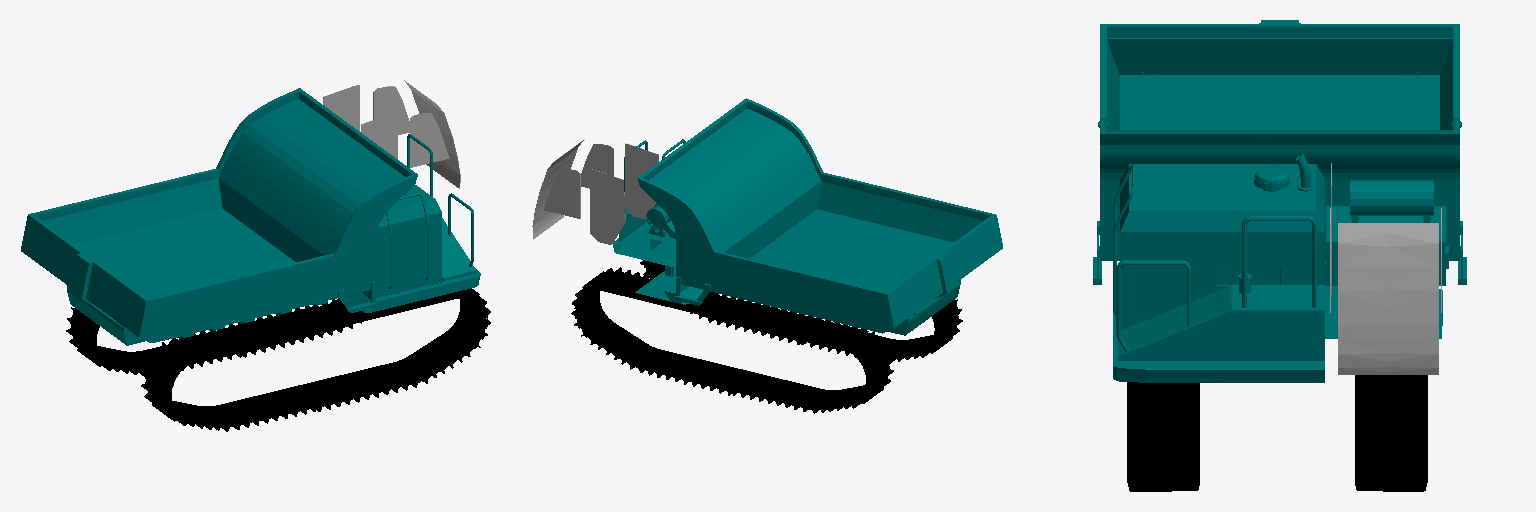
URDF robot description (ic120):
<?xml version="1.0" ?>
<!-- =================================================================================== -->
<!-- |    This document was autogenerated by xacro from ic120_gazebo.xacro             | -->
<!-- |    EDITING THIS FILE BY HAND IS NOT RECOMMENDED                                 | -->
<!-- =================================================================================== -->
<robot name="ic120">
  <!-- <xacro:property name="model_offset_x" value="-1.5" />
  <xacro:property name="model_offset_y" value="-3.1" /> -->
  <!-- <xacro:property name="model_offset_x" value="-1.5" />
  <xacro:property name="model_offset_y" value="-3.1" /> -->
  <link name="base_link"/>
  <link name="track_frame_link">
    <visual>
      <geometry>
        <mesh filename="package://ic120_model/mesh/track_frame.stl"/>
      </geometry>
      <origin rpy="0 0 1.57079632675" xyz="3.1 -1.5 0"/>
      <material name="Gray">
        <color rgba="0.7 0.7 0.7 1.0"/>
      </material>
    </visual>
    <inertial>
      <mass value="1"/>
      <inertia ixx="1" ixy="0.0" ixz="0.0" iyy="1" iyz="0.0" izz="1"/>
    </inertial>
  </link>
  <joint name="track_frame_joint" type="fixed">
    <origin rpy="0 0 0" xyz="0 0 0"/>
    <parent link="base_link"/>
    <child link="track_frame_link"/>
    <axis xyz="0 0 1"/>
  </joint>
  <link name="track_belt_link">
    <visual>
      <geometry>
        <mesh filename="package://ic120_model/mesh/track_belt.stl"/>
      </geometry>
      <origin rpy="0 0 1.57079632675" xyz="3.1 -1.5 0"/>
      <material name="Black">
        <color rgba="0 0 0 1.0"/>
      </material>
    </visual>
    <inertial>
      <mass value="1"/>
      <inertia ixx="1" ixy="0.0" ixz="0.0" iyy="1" iyz="0.0" izz="1"/>
    </inertial>
  </link>
  <joint name="track_belt_joint" type="fixed">
    <origin rpy="0 0 0" xyz="0 0 0"/>
    <parent link="track_frame_link"/>
    <child link="track_belt_link"/>
    <axis xyz="0 0 1"/>
  </joint>
  <link name="upper_frame_link">
    <visual>
      <geometry>
        <mesh filename="package://ic120_model/mesh/upper_frame.stl"/>
      </geometry>
      <origin rpy="0 0 1.57079632675" xyz="3.1 -1.5 0"/>
      <material name="Teal">
        <color rgba="0 0.5 0.5 1.0"/>
      </material>
    </visual>
    <inertial>
      <mass value="1"/>
      <inertia ixx="1" ixy="0.0" ixz="0.0" iyy="1" iyz="0.0" izz="1"/>
    </inertial>
  </link>
  <joint name="upper_frame_joint" type="fixed">
    <origin rpy="0 0 0" xyz="0 0 0"/>
    <parent link="track_frame_link"/>
    <child link="upper_frame_link"/>
    <axis xyz="0 0 1"/>
  </joint>
  <link name="cabin_link">
    <visual>
      <geometry>
        <mesh filename="package://ic120_model/mesh/cabin.stl"/>
      </geometry>
      <origin rpy="0 0 1.57079632675" xyz="3.1 -1.5 0"/>
      <material name="Black">
        <color rgba="0 0 0 1.0"/>
      </material>
    </visual>
    <inertial>
      <mass value="1"/>
      <inertia ixx="1" ixy="0.0" ixz="0.0" iyy="1" iyz="0.0" izz="1"/>
    </inertial>
  </link>
  <joint name="cabin_joint" type="fixed">
    <origin rpy="0 0 0" xyz="0 0 0"/>
    <parent link="track_frame_link"/>
    <child link="cabin_link"/>
    <axis xyz="0 0 1"/>
  </joint>
  <link name="cabin_window_link">
    <visual>
      <geometry>
        <mesh filename="package://ic120_model/mesh/cabin_window.stl"/>
      </geometry>
      <origin rpy="0 0 1.57079632675" xyz="3.1 -1.5 0"/>
      <material name="Gray">
        <color rgba="0.7 0.7 0.7 0.2"/>
      </material>
    </visual>
    <inertial>
      <mass value="1"/>
      <inertia ixx="1" ixy="0.0" ixz="0.0" iyy="1" iyz="0.0" izz="1"/>
    </inertial>
  </link>
  <joint name="cabin_window_joint" type="fixed">
    <origin rpy="0 0 0" xyz="0 0 0"/>
    <parent link="track_frame_link"/>
    <child link="cabin_window_link"/>
    <axis xyz="0 0 1"/>
  </joint>
  <link name="vessel_pin_link">
    <visual>
      <geometry>
        <mesh filename="package://ic120_model/mesh/vessel.stl"/>
      </geometry>
      <origin rpy="0 0 1.57079632675" xyz="5.4 -1.5 -1.55"/>
      <material name="Teal">
        <color rgba="0 0.5 0.5 1.0"/>
      </material>
    </visual>
    <inertial>
      <origin xyz="0 0 0"/>
      <mass value="1.0e-03"/>
      <inertia ixx="1.0e-03" ixy="0.0" ixz="0.0" iyy="1.0e-03" iyz="0.0" izz="1.0e-03"/>
    </inertial>
  </link>
  <joint name="vessel_pin_joint" type="revolute">
    <origin rpy="0 0 0" xyz="-2.30 0 1.55"/>
    <parent link="base_link"/>
    <child link="vessel_pin_link"/>
    <axis xyz="0 1 0"/>
    <limit effort="1" lower="-3.14" upper="0" velocity="0.5"/>
  </joint>
  <link name="vessel_link"/>
  <joint name="vessel_joint" type="fixed">
    <origin rpy="0 0 0" xyz="-1.6 0 1.5"/>
    <parent link="track_frame_link"/>
    <child link="vessel_link"/>
    <axis xyz="0 0 1"/>
  </joint>
  <joint name="left_middle_wheel_joint" type="continuous">
    <origin rpy="-1.5707963267948966 0 0" xyz="0 1 0.5"/>
    <parent link="base_link"/>
    <child link="left_middle_wheel_link"/>
    <axis xyz="0 0 1"/>
  </joint>
  <transmission name="left_middle_wheel_trans" type="SimpleTransmission">
    <type>transmission_interface/SimpleTransmission</type>
    <actuator name="left_middle_wheel_motor">
      <mechanicalReduction>1</mechanicalReduction>
    </actuator>
    <joint name="left_middle_wheel_joint">
      <hardwareInterface>hardware_interface/VelocityJointInterface</hardwareInterface>
    </joint>
  </transmission>
  <link name="left_middle_wheel_link">
    <inertial>
      <origin rpy="0 0 0" xyz="0 0 0"/>
      <mass value="10"/>
      <inertia ixx="5" ixy="0.0" ixz="0.0" iyy="5" iyz="0.0" izz="5"/>
    </inertial>
    <!-- <visual>
        <geometry>
          <cylinder radius="0.5" length="0.5" />
        </geometry>
      </visual> -->
    <collision>
      <geometry>
        <cylinder length="0.1" radius="0.5"/>
      </geometry>
    </collision>
  </link>
  <gazebo reference="left_middle_wheel_link">
    <!--material>Gazebo/Red</material-->
    <mu1 value="0.7"/>
    <mu2 value="0.6"/>
    <kp value="7.5e+5"/>
    <kd value="0.001"/>
  </gazebo>
  <joint name="left_front1_wheel_joint" type="continuous">
    <origin rpy="-1.5707963267948966 0 0" xyz="0.5 1 0.5"/>
    <parent link="base_link"/>
    <child link="left_front1_wheel_link"/>
    <axis xyz="0 0 1"/>
  </joint>
  <transmission name="left_front1_wheel_trans" type="SimpleTransmission">
    <type>transmission_interface/SimpleTransmission</type>
    <actuator name="left_front1_wheel_motor">
      <mechanicalReduction>1</mechanicalReduction>
    </actuator>
    <joint name="left_front1_wheel_joint">
      <hardwareInterface>hardware_interface/VelocityJointInterface</hardwareInterface>
    </joint>
  </transmission>
  <link name="left_front1_wheel_link">
    <inertial>
      <origin rpy="0 0 0" xyz="0 0 0"/>
      <mass value="10"/>
      <inertia ixx="5" ixy="0.0" ixz="0.0" iyy="5" iyz="0.0" izz="5"/>
    </inertial>
    <!-- <visual>
        <geometry>
          <cylinder radius="0.5" length="0.5" />
        </geometry>
      </visual> -->
    <collision>
      <geometry>
        <cylinder length="0.1" radius="0.5"/>
      </geometry>
    </collision>
  </link>
  <gazebo reference="left_front1_wheel_link">
    <!--material>Gazebo/Red</material-->
    <mu1 value="0.7"/>
    <mu2 value="0.6"/>
    <kp value="7.5e+5"/>
    <kd value="0.001"/>
  </gazebo>
  <joint name="left_front2_wheel_joint" type="continuous">
    <origin rpy="-1.5707963267948966 0 0" xyz="1 1 0.5"/>
    <parent link="base_link"/>
    <child link="left_front2_wheel_link"/>
    <axis xyz="0 0 1"/>
  </joint>
  <transmission name="left_front2_wheel_trans" type="SimpleTransmission">
    <type>transmission_interface/SimpleTransmission</type>
    <actuator name="left_front2_wheel_motor">
      <mechanicalReduction>1</mechanicalReduction>
    </actuator>
    <joint name="left_front2_wheel_joint">
      <hardwareInterface>hardware_interface/VelocityJointInterface</hardwareInterface>
    </joint>
  </transmission>
  <link name="left_front2_wheel_link">
    <inertial>
      <origin rpy="0 0 0" xyz="0 0 0"/>
      <mass value="10"/>
      <inertia ixx="5" ixy="0.0" ixz="0.0" iyy="5" iyz="0.0" izz="5"/>
    </inertial>
    <!-- <visual>
        <geometry>
          <cylinder radius="0.5" length="0.5" />
        </geometry>
      </visual> -->
    <collision>
      <geometry>
        <cylinder length="0.1" radius="0.5"/>
      </geometry>
    </collision>
  </link>
  <gazebo reference="left_front2_wheel_link">
    <!--material>Gazebo/Red</material-->
    <mu1 value="0.7"/>
    <mu2 value="0.6"/>
    <kp value="7.5e+5"/>
    <kd value="0.001"/>
  </gazebo>
  <joint name="left_front3_wheel_joint" type="continuous">
    <origin rpy="-1.5707963267948966 0 0" xyz="1.5 1 0.5"/>
    <parent link="base_link"/>
    <child link="left_front3_wheel_link"/>
    <axis xyz="0 0 1"/>
  </joint>
  <transmission name="left_front3_wheel_trans" type="SimpleTransmission">
    <type>transmission_interface/SimpleTransmission</type>
    <actuator name="left_front3_wheel_motor">
      <mechanicalReduction>1</mechanicalReduction>
    </actuator>
    <joint name="left_front3_wheel_joint">
      <hardwareInterface>hardware_interface/VelocityJointInterface</hardwareInterface>
    </joint>
  </transmission>
  <link name="left_front3_wheel_link">
    <inertial>
      <origin rpy="0 0 0" xyz="0 0 0"/>
      <mass value="10"/>
      <inertia ixx="5" ixy="0.0" ixz="0.0" iyy="5" iyz="0.0" izz="5"/>
    </inertial>
    <!-- <visual>
        <geometry>
          <cylinder radius="0.5" length="0.5" />
        </geometry>
      </visual> -->
    <collision>
      <geometry>
        <cylinder length="0.1" radius="0.5"/>
      </geometry>
    </collision>
  </link>
  <gazebo reference="left_front3_wheel_link">
    <!--material>Gazebo/Red</material-->
    <mu1 value="0.7"/>
    <mu2 value="0.6"/>
    <kp value="7.5e+5"/>
    <kd value="0.001"/>
  </gazebo>
  <joint name="left_rear1_wheel_joint" type="continuous">
    <origin rpy="-1.5707963267948966 0 0" xyz="-0.5 1 0.5"/>
    <parent link="base_link"/>
    <child link="left_rear1_wheel_link"/>
    <axis xyz="0 0 1"/>
  </joint>
  <transmission name="left_rear1_wheel_trans" type="SimpleTransmission">
    <type>transmission_interface/SimpleTransmission</type>
    <actuator name="left_rear1_wheel_motor">
      <mechanicalReduction>1</mechanicalReduction>
    </actuator>
    <joint name="left_rear1_wheel_joint">
      <hardwareInterface>hardware_interface/VelocityJointInterface</hardwareInterface>
    </joint>
  </transmission>
  <link name="left_rear1_wheel_link">
    <inertial>
      <origin rpy="0 0 0" xyz="0 0 0"/>
      <mass value="10"/>
      <inertia ixx="5" ixy="0.0" ixz="0.0" iyy="5" iyz="0.0" izz="5"/>
    </inertial>
    <!-- <visual>
        <geometry>
          <cylinder radius="0.5" length="0.5" />
        </geometry>
      </visual> -->
    <collision>
      <geometry>
        <cylinder length="0.1" radius="0.5"/>
      </geometry>
    </collision>
  </link>
  <gazebo reference="left_rear1_wheel_link">
    <!--material>Gazebo/Red</material-->
    <mu1 value="0.7"/>
    <mu2 value="0.6"/>
    <kp value="7.5e+5"/>
    <kd value="0.001"/>
  </gazebo>
  <joint name="left_rear2_wheel_joint" type="continuous">
    <origin rpy="-1.5707963267948966 0 0" xyz="-1 1 0.5"/>
    <parent link="base_link"/>
    <child link="left_rear2_wheel_link"/>
    <axis xyz="0 0 1"/>
  </joint>
  <transmission name="left_rear2_wheel_trans" type="SimpleTransmission">
    <type>transmission_interface/SimpleTransmission</type>
    <actuator name="left_rear2_wheel_motor">
      <mechanicalReduction>1</mechanicalReduction>
    </actuator>
    <joint name="left_rear2_wheel_joint">
      <hardwareInterface>hardware_interface/VelocityJointInterface</hardwareInterface>
    </joint>
  </transmission>
  <link name="left_rear2_wheel_link">
    <inertial>
      <origin rpy="0 0 0" xyz="0 0 0"/>
      <mass value="10"/>
      <inertia ixx="5" ixy="0.0" ixz="0.0" iyy="5" iyz="0.0" izz="5"/>
    </inertial>
    <!-- <visual>
        <geometry>
          <cylinder radius="0.5" length="0.5" />
        </geometry>
      </visual> -->
    <collision>
      <geometry>
        <cylinder length="0.1" radius="0.5"/>
      </geometry>
    </collision>
  </link>
  <gazebo reference="left_rear2_wheel_link">
    <!--material>Gazebo/Red</material-->
    <mu1 value="0.7"/>
    <mu2 value="0.6"/>
    <kp value="7.5e+5"/>
    <kd value="0.001"/>
  </gazebo>
  <joint name="left_rear3_wheel_joint" type="continuous">
    <origin rpy="-1.5707963267948966 0 0" xyz="-1.5 1 0.5"/>
    <parent link="base_link"/>
    <child link="left_rear3_wheel_link"/>
    <axis xyz="0 0 1"/>
  </joint>
  <transmission name="left_rear3_wheel_trans" type="SimpleTransmission">
    <type>transmission_interface/SimpleTransmission</type>
    <actuator name="left_rear3_wheel_motor">
      <mechanicalReduction>1</mechanicalReduction>
    </actuator>
    <joint name="left_rear3_wheel_joint">
      <hardwareInterface>hardware_interface/VelocityJointInterface</hardwareInterface>
    </joint>
  </transmission>
  <link name="left_rear3_wheel_link">
    <inertial>
      <origin rpy="0 0 0" xyz="0 0 0"/>
      <mass value="10"/>
      <inertia ixx="5" ixy="0.0" ixz="0.0" iyy="5" iyz="0.0" izz="5"/>
    </inertial>
    <!-- <visual>
        <geometry>
          <cylinder radius="0.5" length="0.5" />
        </geometry>
      </visual> -->
    <collision>
      <geometry>
        <cylinder length="0.1" radius="0.5"/>
      </geometry>
    </collision>
  </link>
  <gazebo reference="left_rear3_wheel_link">
    <!--material>Gazebo/Red</material-->
    <mu1 value="0.7"/>
    <mu2 value="0.6"/>
    <kp value="7.5e+5"/>
    <kd value="0.001"/>
  </gazebo>
  <joint name="right_middle_wheel_joint" type="continuous">
    <origin rpy="-1.5707963267948966 0 0" xyz="0 -1 0.5"/>
    <parent link="base_link"/>
    <child link="right_middle_wheel_link"/>
    <axis xyz="0 0 1"/>
  </joint>
  <transmission name="right_middle_wheel_trans" type="SimpleTransmission">
    <type>transmission_interface/SimpleTransmission</type>
    <actuator name="right_middle_wheel_motor">
      <mechanicalReduction>1</mechanicalReduction>
    </actuator>
    <joint name="right_middle_wheel_joint">
      <hardwareInterface>hardware_interface/VelocityJointInterface</hardwareInterface>
    </joint>
  </transmission>
  <link name="right_middle_wheel_link">
    <inertial>
      <origin rpy="0 0 0" xyz="0 0 0"/>
      <mass value="10"/>
      <inertia ixx="5" ixy="0.0" ixz="0.0" iyy="5" iyz="0.0" izz="5"/>
    </inertial>
    <!-- <visual>
        <geometry>
          <cylinder radius="0.5" length="0.5" />
        </geometry>
      </visual> -->
    <collision>
      <geometry>
        <cylinder length="0.1" radius="0.5"/>
      </geometry>
    </collision>
  </link>
  <gazebo reference="right_middle_wheel_link">
    <!--material>Gazebo/Red</material-->
    <mu1 value="0.7"/>
    <mu2 value="0.6"/>
    <kp value="7.5e+5"/>
    <kd value="0.001"/>
  </gazebo>
  <joint name="right_front1_wheel_joint" type="continuous">
    <origin rpy="-1.5707963267948966 0 0" xyz="0.5 -1 0.5"/>
    <parent link="base_link"/>
    <child link="right_front1_wheel_link"/>
    <axis xyz="0 0 1"/>
  </joint>
  <transmission name="right_front1_wheel_trans" type="SimpleTransmission">
    <type>transmission_interface/SimpleTransmission</type>
    <actuator name="right_front1_wheel_motor">
      <mechanicalReduction>1</mechanicalReduction>
    </actuator>
    <joint name="right_front1_wheel_joint">
      <hardwareInterface>hardware_interface/VelocityJointInterface</hardwareInterface>
    </joint>
  </transmission>
  <link name="right_front1_wheel_link">
    <inertial>
      <origin rpy="0 0 0" xyz="0 0 0"/>
      <mass value="10"/>
      <inertia ixx="5" ixy="0.0" ixz="0.0" iyy="5" iyz="0.0" izz="5"/>
    </inertial>
    <!-- <visual>
        <geometry>
          <cylinder radius="0.5" length="0.5" />
        </geometry>
      </visual> -->
    <collision>
      <geometry>
        <cylinder length="0.1" radius="0.5"/>
      </geometry>
    </collision>
  </link>
  <gazebo reference="right_front1_wheel_link">
    <!--material>Gazebo/Red</material-->
    <mu1 value="0.7"/>
    <mu2 value="0.6"/>
    <kp value="7.5e+5"/>
    <kd value="0.001"/>
  </gazebo>
  <joint name="right_front2_wheel_joint" type="continuous">
    <origin rpy="-1.5707963267948966 0 0" xyz="1 -1 0.5"/>
    <parent link="base_link"/>
    <child link="right_front2_wheel_link"/>
    <axis xyz="0 0 1"/>
  </joint>
  <transmission name="right_front2_wheel_trans" type="SimpleTransmission">
    <type>transmission_interface/SimpleTransmission</type>
    <actuator name="right_front2_wheel_motor">
      <mechanicalReduction>1</mechanicalReduction>
    </actuator>
    <joint name="right_front2_wheel_joint">
      <hardwareInterface>hardware_interface/VelocityJointInterface</hardwareInterface>
    </joint>
  </transmission>
  <link name="right_front2_wheel_link">
    <inertial>
      <origin rpy="0 0 0" xyz="0 0 0"/>
      <mass value="10"/>
      <inertia ixx="5" ixy="0.0" ixz="0.0" iyy="5" iyz="0.0" izz="5"/>
    </inertial>
    <!-- <visual>
        <geometry>
          <cylinder radius="0.5" length="0.5" />
        </geometry>
      </visual> -->
    <collision>
      <geometry>
        <cylinder length="0.1" radius="0.5"/>
      </geometry>
    </collision>
  </link>
  <gazebo reference="right_front2_wheel_link">
    <!--material>Gazebo/Red</material-->
    <mu1 value="0.7"/>
    <mu2 value="0.6"/>
    <kp value="7.5e+5"/>
    <kd value="0.001"/>
  </gazebo>
  <joint name="right_front3_wheel_joint" type="continuous">
    <origin rpy="-1.5707963267948966 0 0" xyz="1.5 -1 0.5"/>
    <parent link="base_link"/>
    <child link="right_front3_wheel_link"/>
    <axis xyz="0 0 1"/>
  </joint>
  <transmission name="right_front3_wheel_trans" type="SimpleTransmission">
    <type>transmission_interface/SimpleTransmission</type>
    <actuator name="right_front3_wheel_motor">
      <mechanicalReduction>1</mechanicalReduction>
    </actuator>
    <joint name="right_front3_wheel_joint">
      <hardwareInterface>hardware_interface/VelocityJointInterface</hardwareInterface>
    </joint>
  </transmission>
  <link name="right_front3_wheel_link">
    <inertial>
      <origin rpy="0 0 0" xyz="0 0 0"/>
      <mass value="10"/>
      <inertia ixx="5" ixy="0.0" ixz="0.0" iyy="5" iyz="0.0" izz="5"/>
    </inertial>
    <!-- <visual>
        <geometry>
          <cylinder radius="0.5" length="0.5" />
        </geometry>
      </visual> -->
    <collision>
      <geometry>
        <cylinder length="0.1" radius="0.5"/>
      </geometry>
    </collision>
  </link>
  <gazebo reference="right_front3_wheel_link">
    <!--material>Gazebo/Red</material-->
    <mu1 value="0.7"/>
    <mu2 value="0.6"/>
    <kp value="7.5e+5"/>
    <kd value="0.001"/>
  </gazebo>
  <joint name="right_rear1_wheel_joint" type="continuous">
    <origin rpy="-1.5707963267948966 0 0" xyz="-0.5 -1 0.5"/>
    <parent link="base_link"/>
    <child link="right_rear1_wheel_link"/>
    <axis xyz="0 0 1"/>
  </joint>
  <transmission name="right_rear1_wheel_trans" type="SimpleTransmission">
    <type>transmission_interface/SimpleTransmission</type>
    <actuator name="right_rear1_wheel_motor">
      <mechanicalReduction>1</mechanicalReduction>
    </actuator>
    <joint name="right_rear1_wheel_joint">
      <hardwareInterface>hardware_interface/VelocityJointInterface</hardwareInterface>
    </joint>
  </transmission>
  <link name="right_rear1_wheel_link">
    <inertial>
      <origin rpy="0 0 0" xyz="0 0 0"/>
      <mass value="10"/>
      <inertia ixx="5" ixy="0.0" ixz="0.0" iyy="5" iyz="0.0" izz="5"/>
    </inertial>
    <!-- <visual>
        <geometry>
          <cylinder radius="0.5" length="0.5" />
        </geometry>
      </visual> -->
    <collision>
      <geometry>
        <cylinder length="0.1" radius="0.5"/>
      </geometry>
    </collision>
  </link>
  <gazebo reference="right_rear1_wheel_link">
    <!--material>Gazebo/Red</material-->
    <mu1 value="0.7"/>
    <mu2 value="0.6"/>
    <kp value="7.5e+5"/>
    <kd value="0.001"/>
  </gazebo>
  <joint name="right_rear2_wheel_joint" type="continuous">
    <origin rpy="-1.5707963267948966 0 0" xyz="-1 -1 0.5"/>
    <parent link="base_link"/>
    <child link="right_rear2_wheel_link"/>
    <axis xyz="0 0 1"/>
  </joint>
  <transmission name="right_rear2_wheel_trans" type="SimpleTransmission">
    <type>transmission_interface/SimpleTransmission</type>
    <actuator name="right_rear2_wheel_motor">
      <mechanicalReduction>1</mechanicalReduction>
    </actuator>
    <joint name="right_rear2_wheel_joint">
      <hardwareInterface>hardware_interface/VelocityJointInterface</hardwareInterface>
    </joint>
  </transmission>
  <link name="right_rear2_wheel_link">
    <inertial>
      <origin rpy="0 0 0" xyz="0 0 0"/>
      <mass value="10"/>
      <inertia ixx="5" ixy="0.0" ixz="0.0" iyy="5" iyz="0.0" izz="5"/>
    </inertial>
    <!-- <visual>
        <geometry>
          <cylinder radius="0.5" length="0.5" />
        </geometry>
      </visual> -->
    <collision>
      <geometry>
        <cylinder length="0.1" radius="0.5"/>
      </geometry>
    </collision>
  </link>
  <gazebo reference="right_rear2_wheel_link">
    <!--material>Gazebo/Red</material-->
    <mu1 value="0.7"/>
    <mu2 value="0.6"/>
    <kp value="7.5e+5"/>
    <kd value="0.001"/>
  </gazebo>
  <joint name="right_rear3_wheel_joint" type="continuous">
    <origin rpy="-1.5707963267948966 0 0" xyz="-1.5 -1 0.5"/>
    <parent link="base_link"/>
    <child link="right_rear3_wheel_link"/>
    <axis xyz="0 0 1"/>
  </joint>
  <transmission name="right_rear3_wheel_trans" type="SimpleTransmission">
    <type>transmission_interface/SimpleTransmission</type>
    <actuator name="right_rear3_wheel_motor">
      <mechanicalReduction>1</mechanicalReduction>
    </actuator>
    <joint name="right_rear3_wheel_joint">
      <hardwareInterface>hardware_interface/VelocityJointInterface</hardwareInterface>
    </joint>
  </transmission>
  <link name="right_rear3_wheel_link">
    <inertial>
      <origin rpy="0 0 0" xyz="0 0 0"/>
      <mass value="10"/>
      <inertia ixx="5" ixy="0.0" ixz="0.0" iyy="5" iyz="0.0" izz="5"/>
    </inertial>
    <!-- <visual>
        <geometry>
          <cylinder radius="0.5" length="0.5" />
        </geometry>
      </visual> -->
    <collision>
      <geometry>
        <cylinder length="0.1" radius="0.5"/>
      </geometry>
    </collision>
  </link>
  <gazebo reference="right_rear3_wheel_link">
    <!--material>Gazebo/Red</material-->
    <mu1 value="0.7"/>
    <mu2 value="0.6"/>
    <kp value="7.5e+5"/>
    <kd value="0.001"/>
  </gazebo>
  <gazebo>
    <plugin filename="libgazebo_ros_control.so" name="gazebo_ros_control"/>
    <!-- <robotNamespace>/ic120</robotNamespace>
    </plugin> -->
  </gazebo>
</robot>

--- Facts derived from the render (not from the file) ---
Views: 3 orthographic renders of the robot side by side, from view 1: azimuth 30°, elevation 25°; view 2: azimuth 150°, elevation 25°; view 3: azimuth 270°, elevation 25°.
Robot: ic120 — 22 links, 21 joints (1 revolute, 14 continuous, 6 fixed); root link base_link; default pose: all joints at 0.
Links seen in each view (by area): view 1: vessel_pin_link, track_belt_link, upper_frame_link, cabin_window_link; view 2: vessel_pin_link, track_belt_link, cabin_window_link, upper_frame_link; view 3: vessel_pin_link, upper_frame_link, track_belt_link, cabin_window_link.
Boxes of the visible links, <box> form: vessel_pin_link: <box>21,88,417,342</box>; track_belt_link: <box>66,288,490,431</box>; upper_frame_link: <box>67,134,480,345</box>; cabin_window_link: <box>323,80,460,188</box>; vessel_pin_link: <box>637,98,1002,333</box>; track_belt_link: <box>571,260,962,413</box>; cabin_window_link: <box>532,139,658,244</box>; upper_frame_link: <box>613,139,960,335</box>; vessel_pin_link: <box>1093,20,1466,284</box>; upper_frame_link: <box>1113,152,1448,382</box>; track_belt_link: <box>1127,375,1427,491</box>; cabin_window_link: <box>1330,163,1441,374</box>.
Bounding box of the posed robot: 5.7 × 3 × 3.01 m (x, y, z).
4 mesh visuals loaded from 6 distinct referenced files (4 binary STL); not drawn: 2 (reference not matched to a file when rendering).